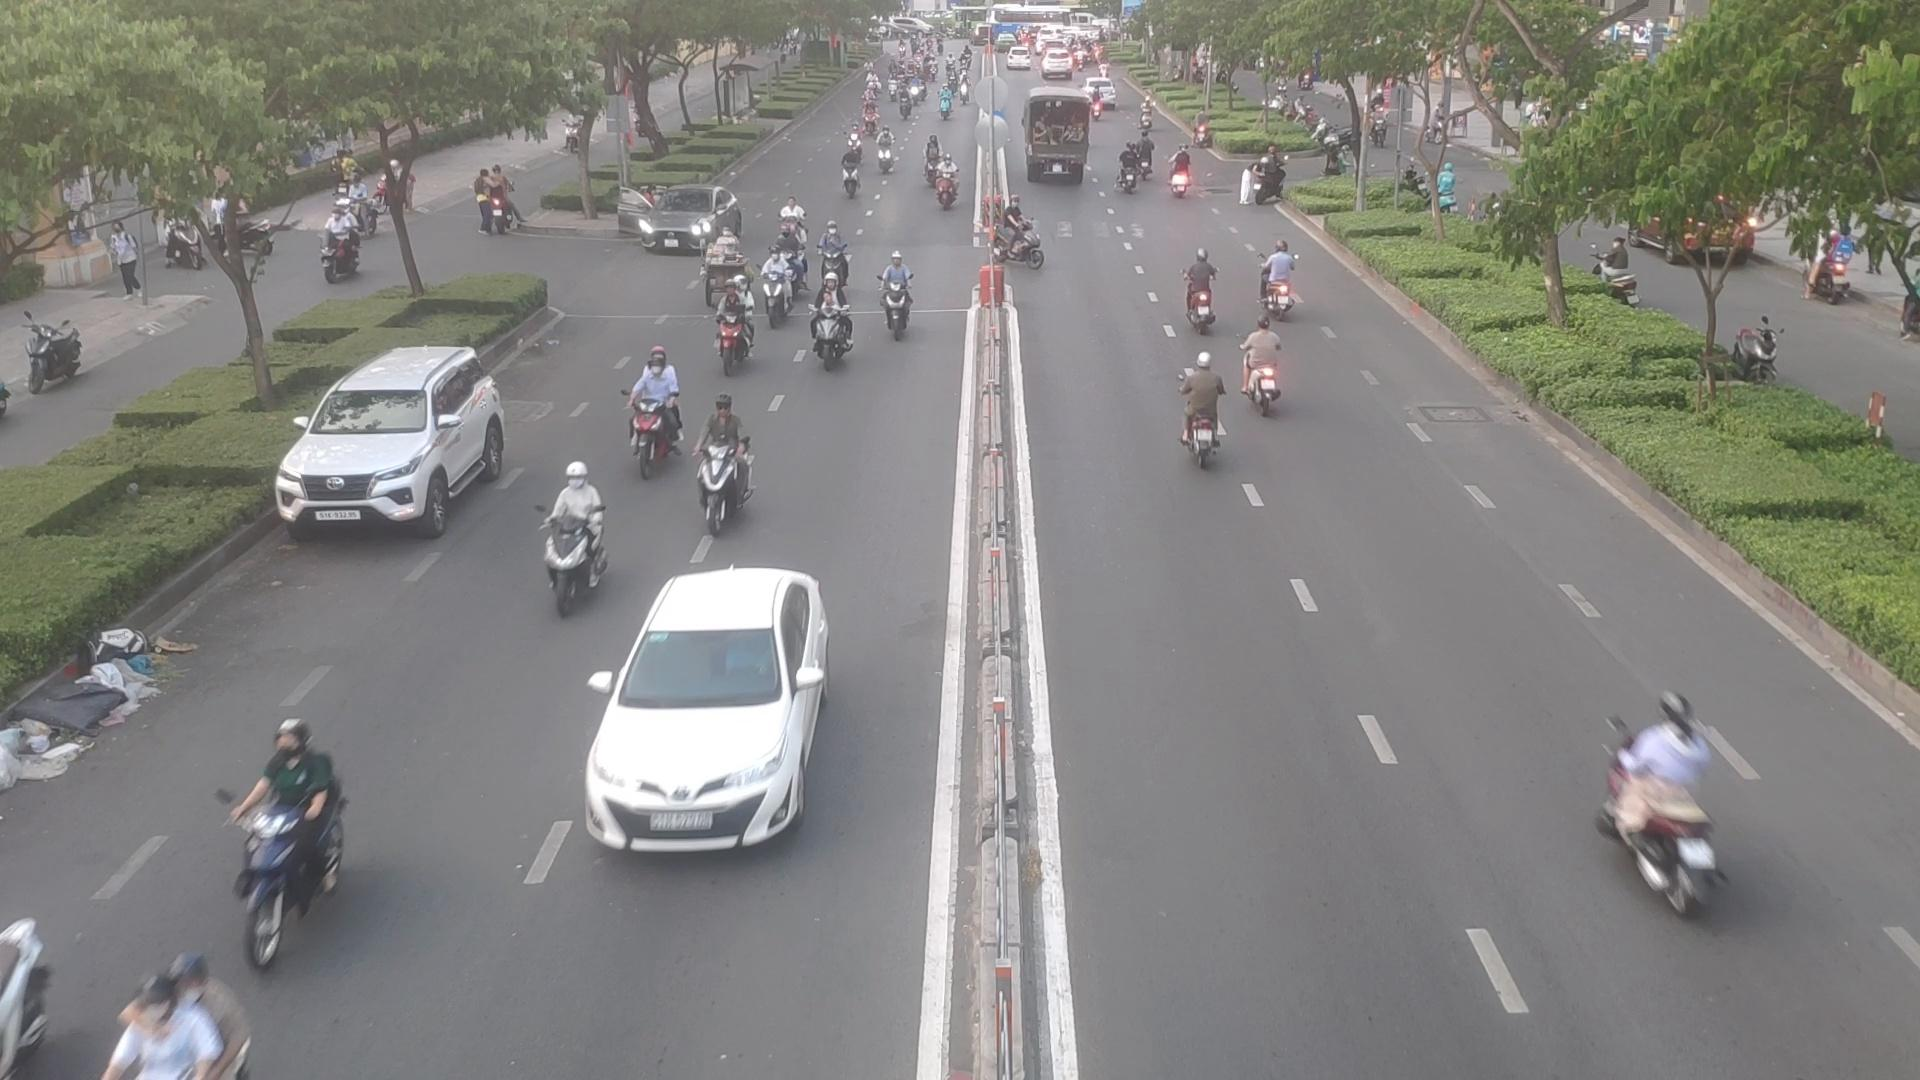car: (584, 574, 831, 855), (273, 345, 512, 535), (622, 189, 738, 257)
motorbike: (1601, 680, 1729, 916), (237, 707, 347, 930), (119, 951, 253, 1080), (534, 458, 604, 604), (691, 390, 757, 524), (626, 347, 680, 465), (1183, 349, 1226, 469), (993, 199, 1054, 273), (1174, 244, 1221, 334), (711, 273, 756, 361), (1263, 236, 1303, 324), (1246, 314, 1280, 407), (881, 247, 913, 345), (810, 313, 857, 368), (1250, 140, 1291, 203), (764, 247, 796, 324), (820, 219, 853, 289), (931, 150, 960, 214), (869, 117, 899, 175), (1171, 140, 1193, 207), (841, 144, 864, 207), (1120, 138, 1145, 194)
